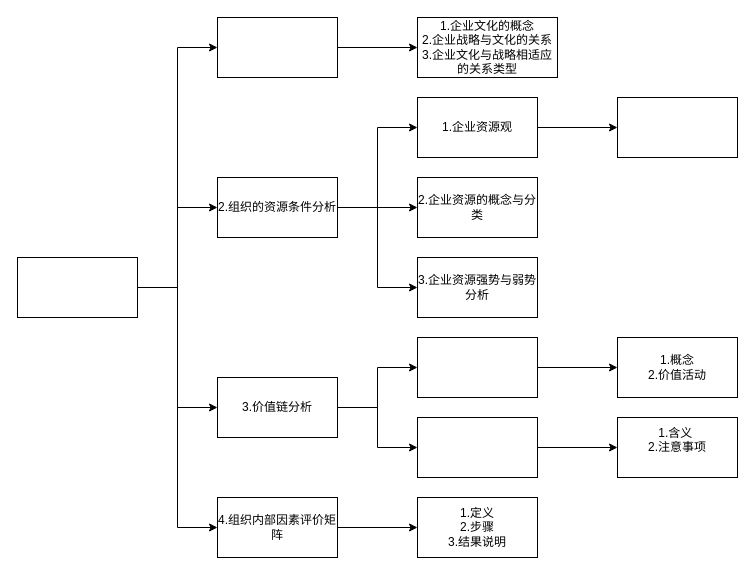
Image size: 755x575. Some labels were removed from this diagram. Here are the shapes that lost their labels. From the top down, the centre of each, then its label:
At point (277, 47): "1.组织的【战略与文化】分析".
At point (677, 127): "1.竞争优势 2.核心观点 3.主要内容".
At point (77, 287): "组织的资源和能力分析".
At point (477, 367): "1.价值链".
At point (477, 447): "2.价值链分析".
